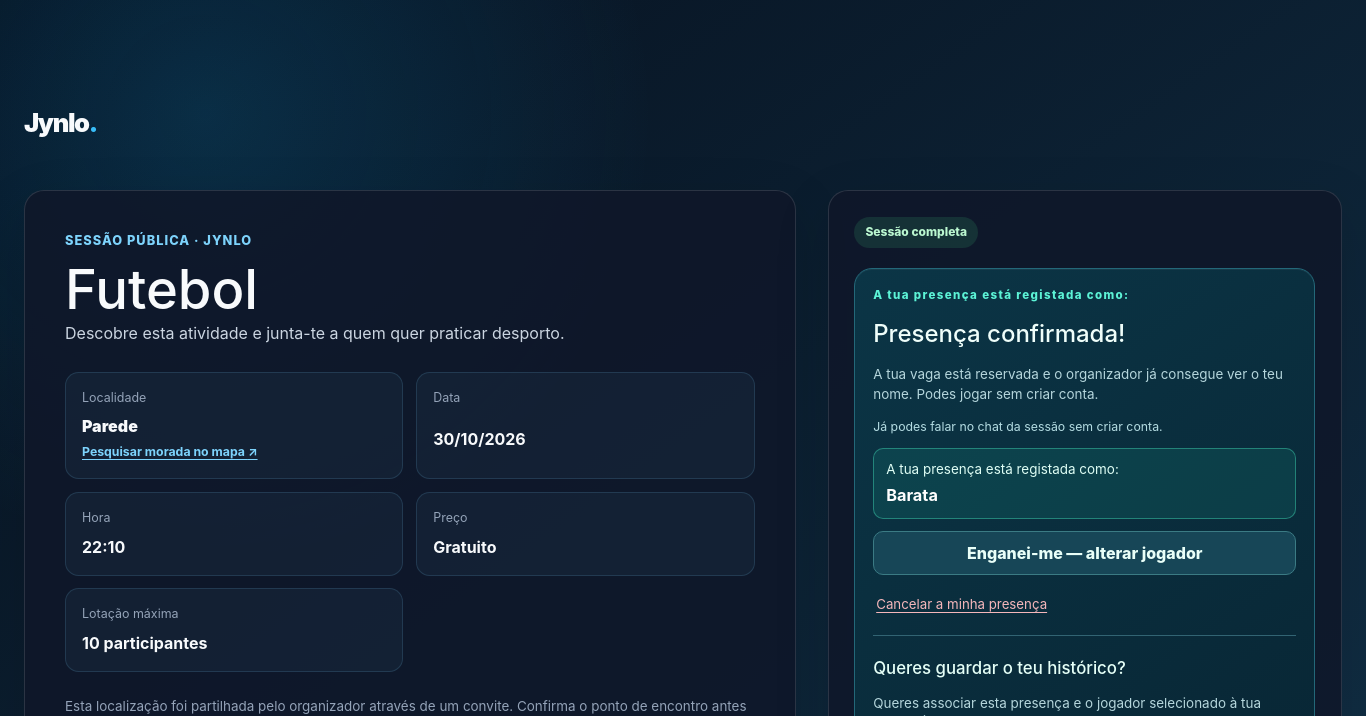
Test: PublicSessionPreviewComponent › keeps the confirmed receipt and offers correction rather than another registration on WhatsApp links
Click the button with class "guest-change-player-button": (1085, 554) 873,532 -> 1296,576
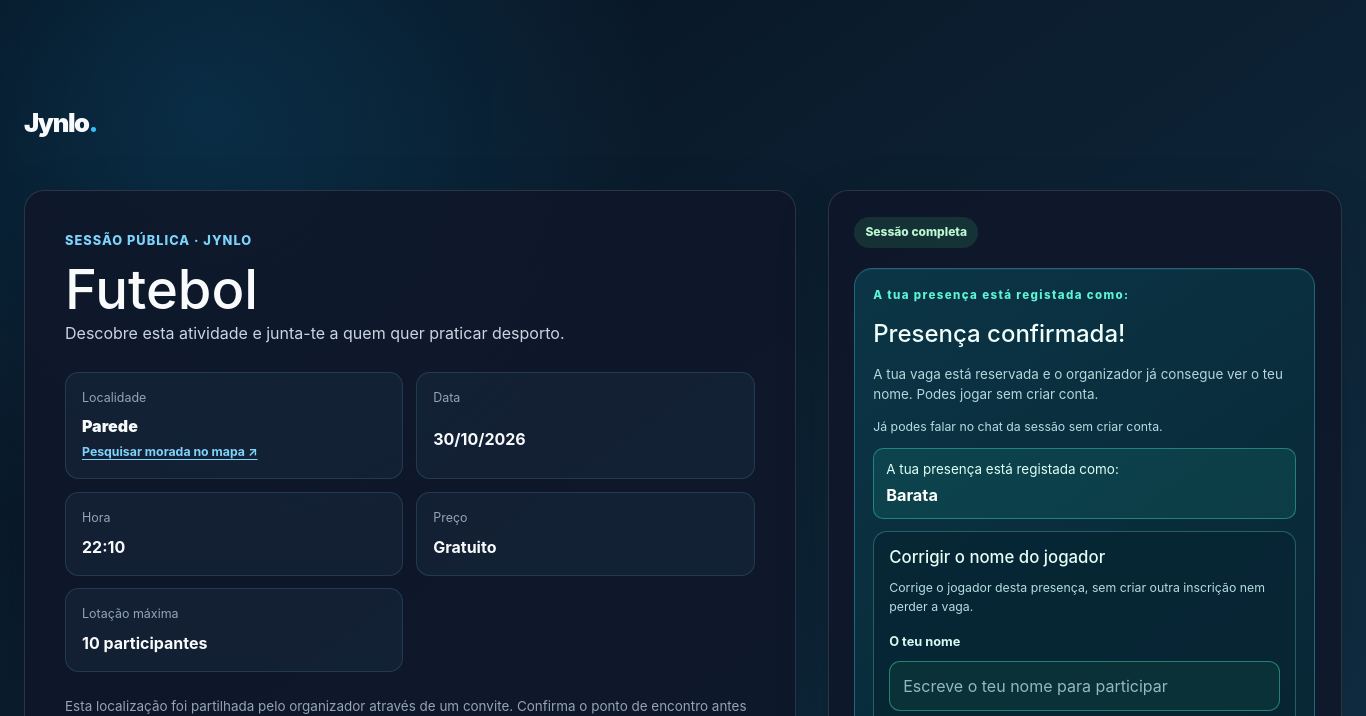
Now the field with id "guest-change-new-name" is shown, box 889,661 -> 1280,711
